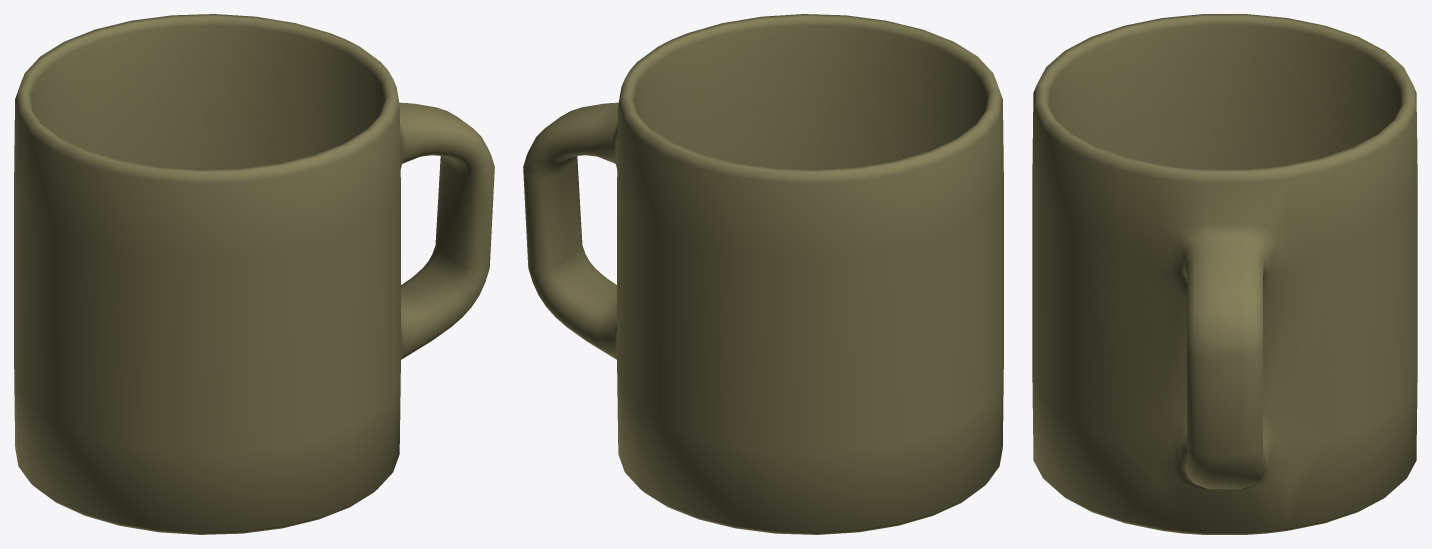
The model's file is mug_01.fbx.
The picture shows the model from 3 angles, left to right: view 1: azimuth 30°, elevation 25°; view 2: azimuth 150°, elevation 25°; view 3: azimuth 270°, elevation 25°; orthographic projection.
Parts seen in each view (by area): view 1: mug_01; view 2: mug_01; view 3: mug_01.
Part boxes in pixels (x1,y1,x2,y2): mug_01: (14,14,494,534); mug_01: (523,14,1003,534); mug_01: (1032,14,1417,534).
Size of the model in its own units: 16.15 by 12.62 by 12.15.
